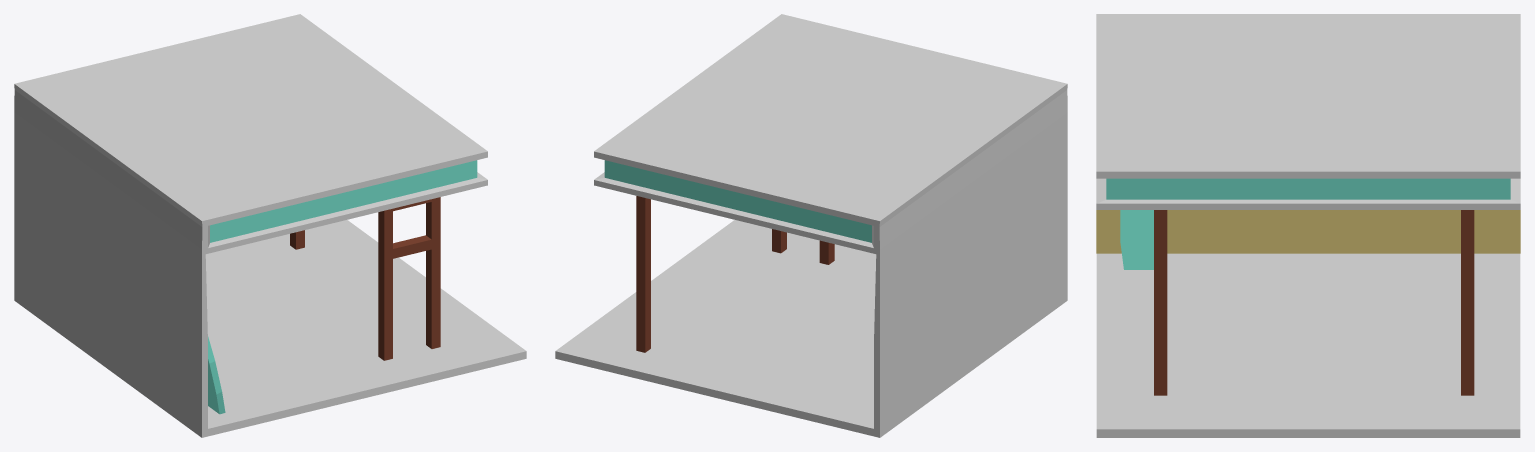
File: Low Poly Beach Booth Fix.fbx
3 renders of one model, left to right at view 1: azimuth 30°, elevation 25°; view 2: azimuth 150°, elevation 25°; view 3: azimuth 270°, elevation 25°, orthographic. The views are drawn at different scales.
Visible parts, largest first — view 1: Cube.002, Cube, Cube.006, Cube.005, Cube.003; view 2: Cube.002, Cube, Cube.004; view 3: Cube.002, Cube, Cube.004, Cube.005, Cube.003.
Boxes of the visible parts, bbox=[...] form: Cube.002: bbox=[14, 14, 487, 430]; Cube: bbox=[14, 220, 526, 437]; Cube.006: bbox=[378, 199, 431, 360]; Cube.005: bbox=[426, 197, 440, 348]; Cube.003: bbox=[208, 336, 225, 414]; Cube.002: bbox=[594, 14, 1067, 430]; Cube: bbox=[555, 220, 1067, 437]; Cube.004: bbox=[636, 196, 650, 352]; Cube.002: bbox=[1096, 14, 1520, 253]; Cube: bbox=[1096, 253, 1520, 437]; Cube.004: bbox=[1461, 210, 1474, 395]; Cube.005: bbox=[1154, 210, 1167, 395]; Cube.003: bbox=[1120, 210, 1153, 269].
Bounding box in the file's own units: 2789 × 1779 × 2792.
